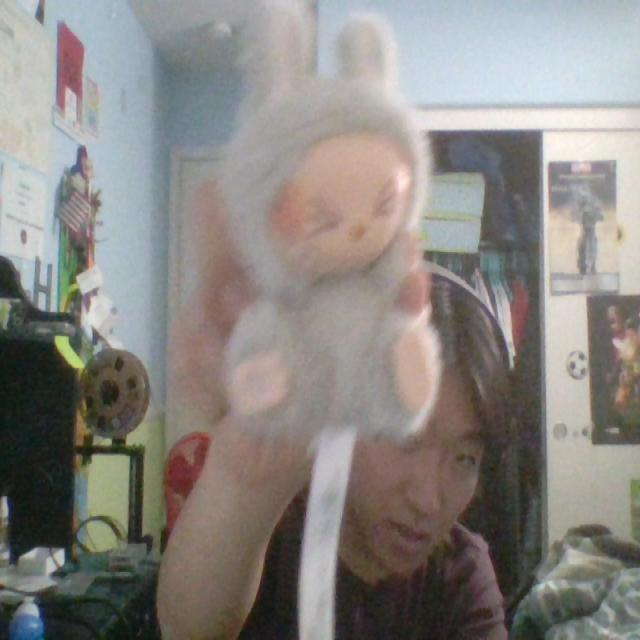labubu: (218, 0, 440, 437)
